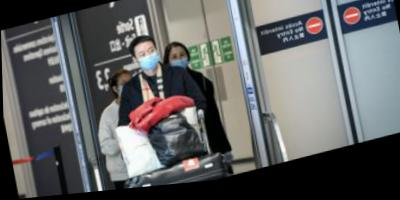OK: (136, 48, 160, 76), (117, 80, 136, 102)
WRONG: (168, 53, 191, 79)
